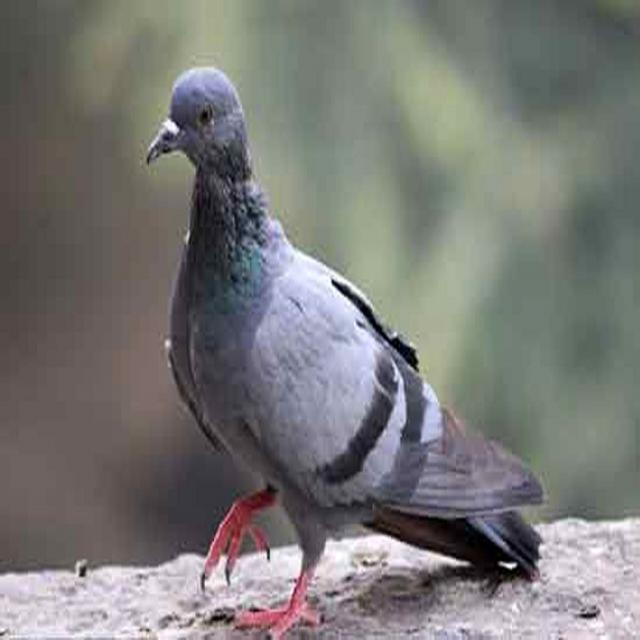bird: (141, 61, 550, 640)
